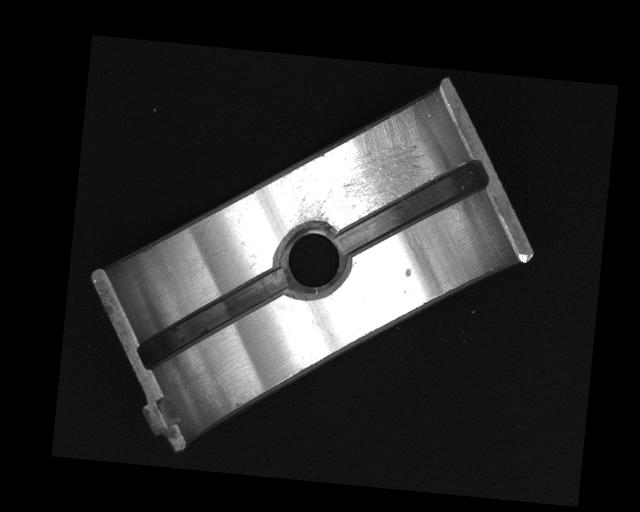bruise: (404, 266, 412, 278)
gap: (136, 255, 292, 382), (337, 147, 488, 266)
hole: (271, 217, 354, 299)
scratch: (289, 96, 431, 242)
